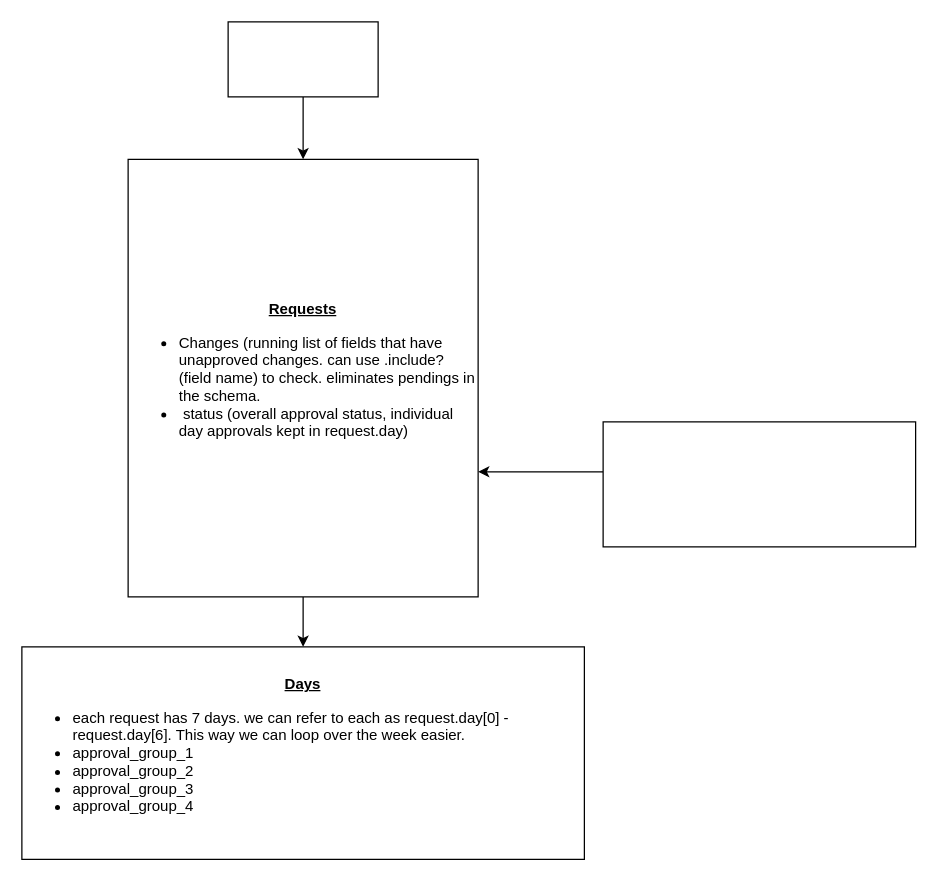
Some shapes in this 938 by 881 pixel diagram are drawn without their labels. The centre of each missing label's shape, as x and y in pixels:
Users: [302,59]
Week can load the index page by pulling up week.requests to be faster: [759,484]
